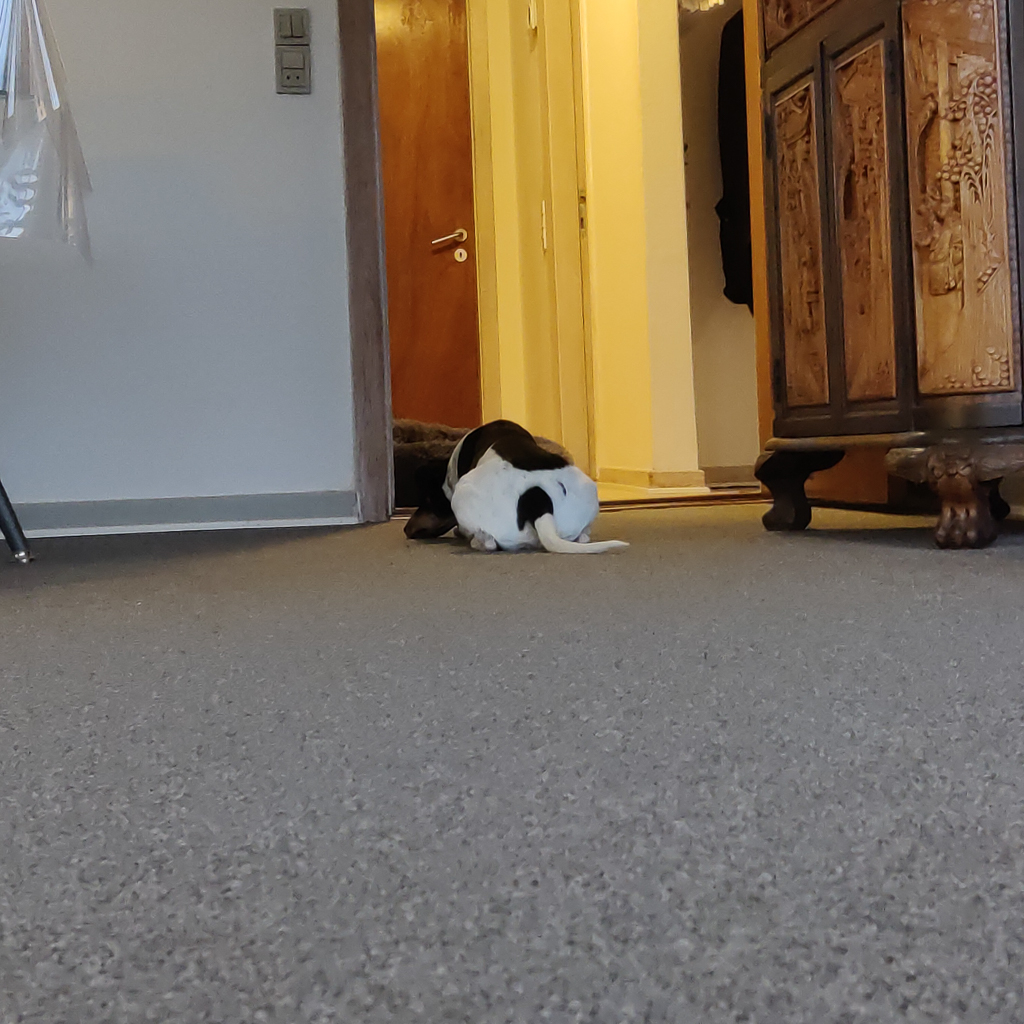Dog: (391, 403, 653, 576)
